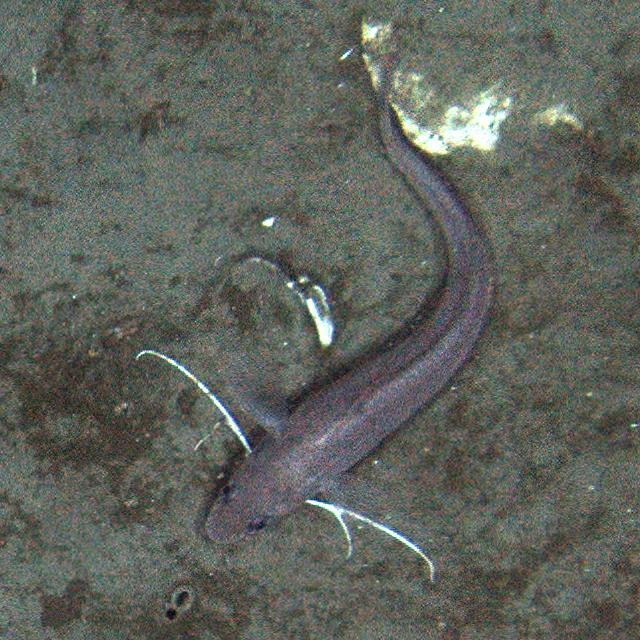roundfish: (155, 58, 492, 590)
